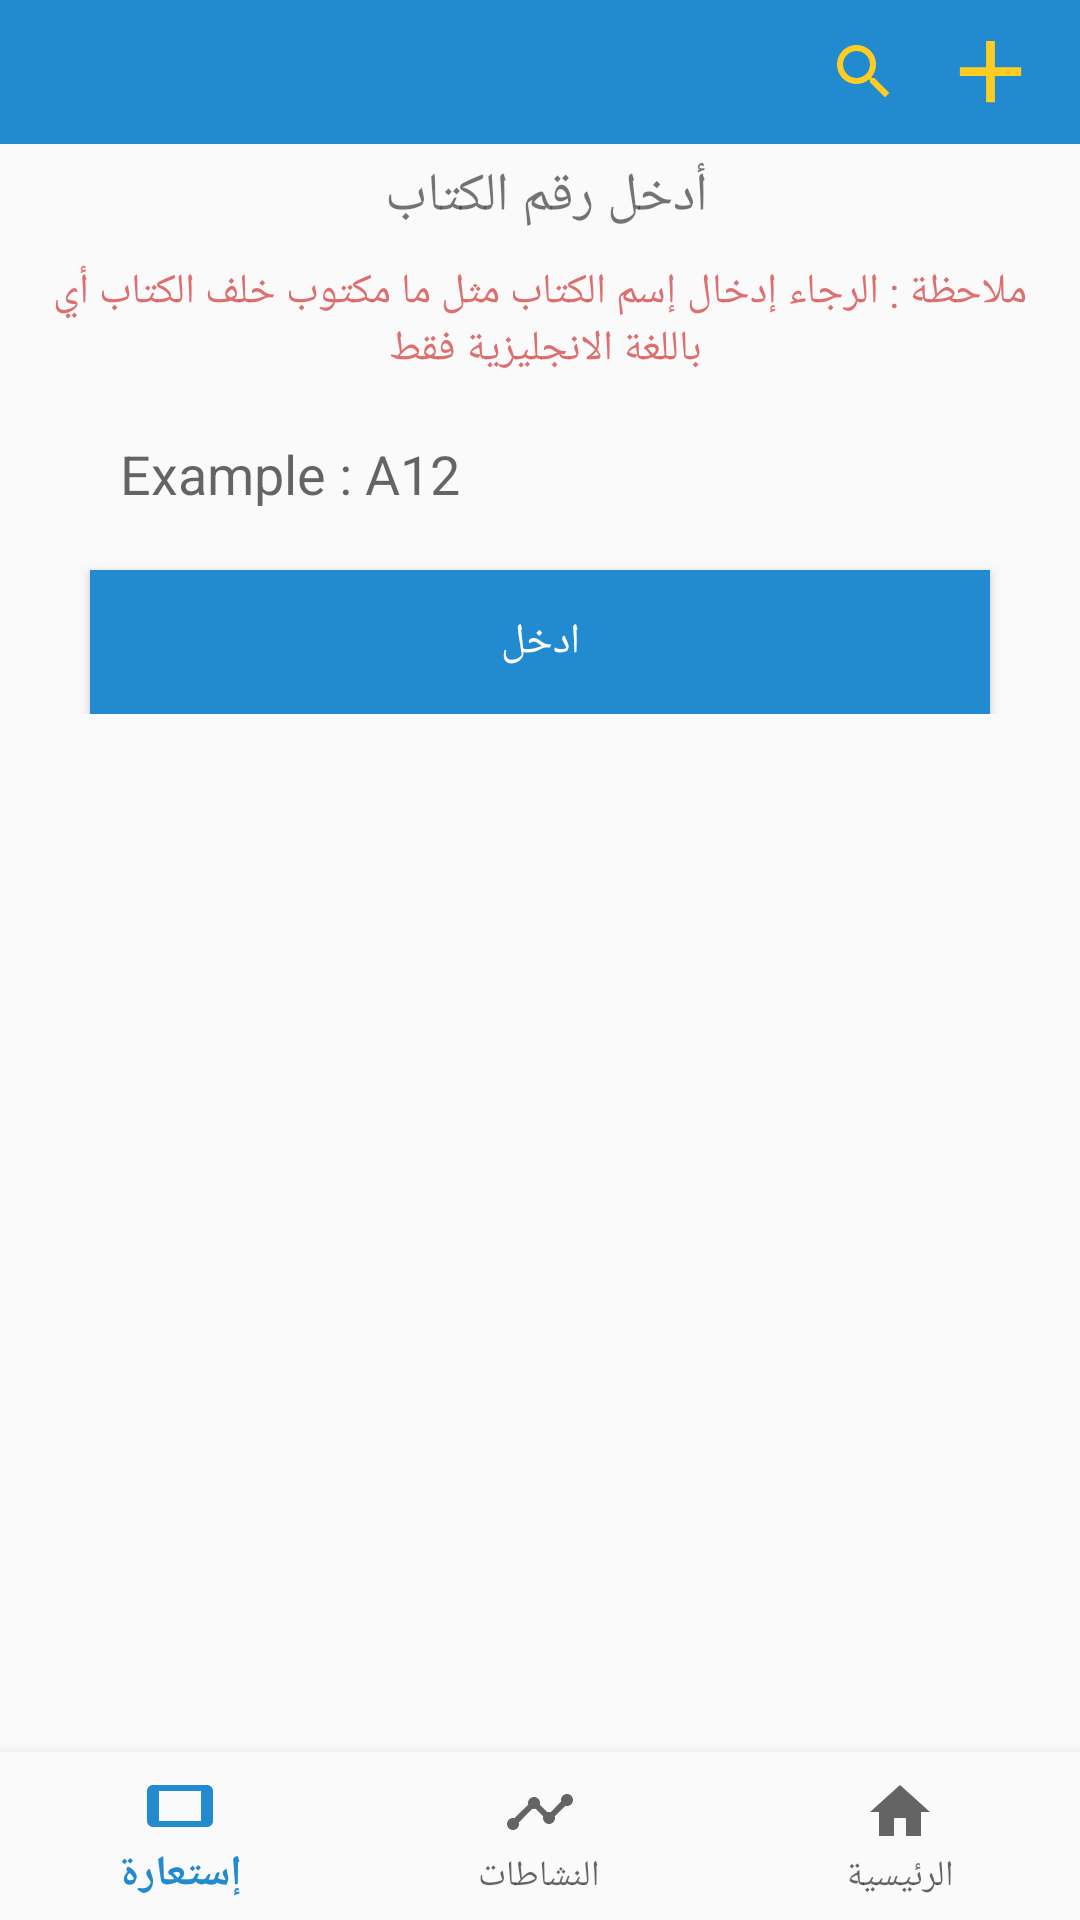

Icon click points for this 1080x1920 phone screenshot, format (x=x, y=y):
add: (x=990, y=72)
search: (x=863, y=71)
